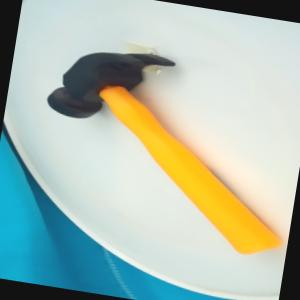martelo: (26, 36, 300, 259)
